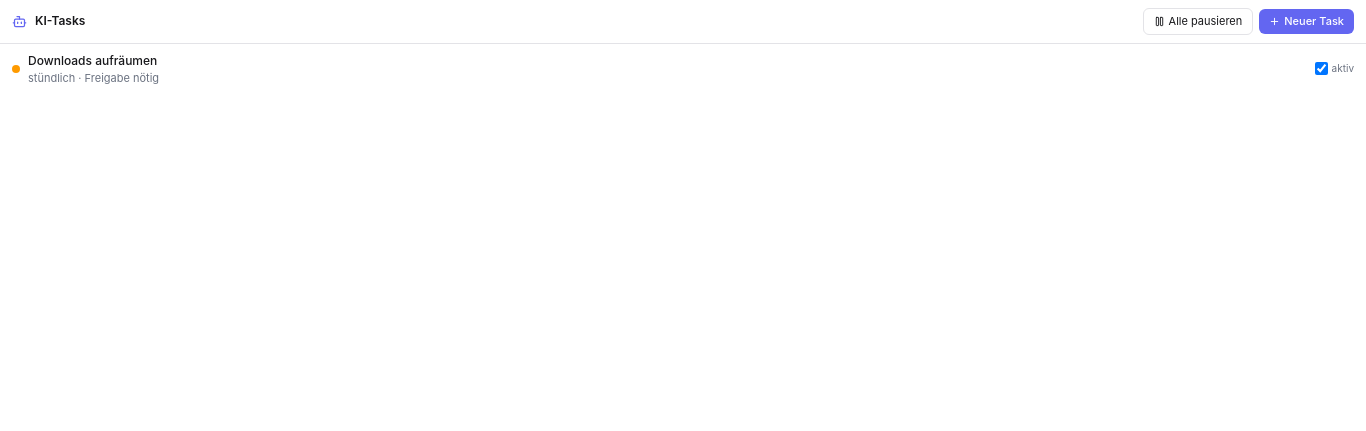
Scenario: TasksPanel › flags risky scripts before approval
The width and height of the screenshot is (1366, 431).
Click the text "Downloads aufräumen" at (93,60), box [28, 52, 157, 68]
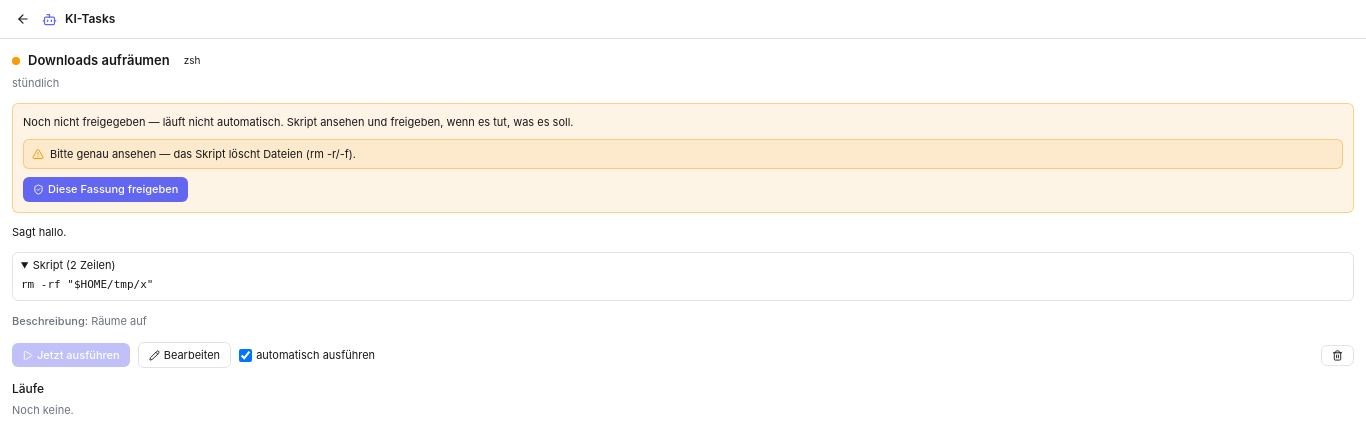
Check: the text "Bitte genau ansehen — das Skript löscht Dateien (rm -r/-f)." is shown, box [50, 146, 356, 162]
